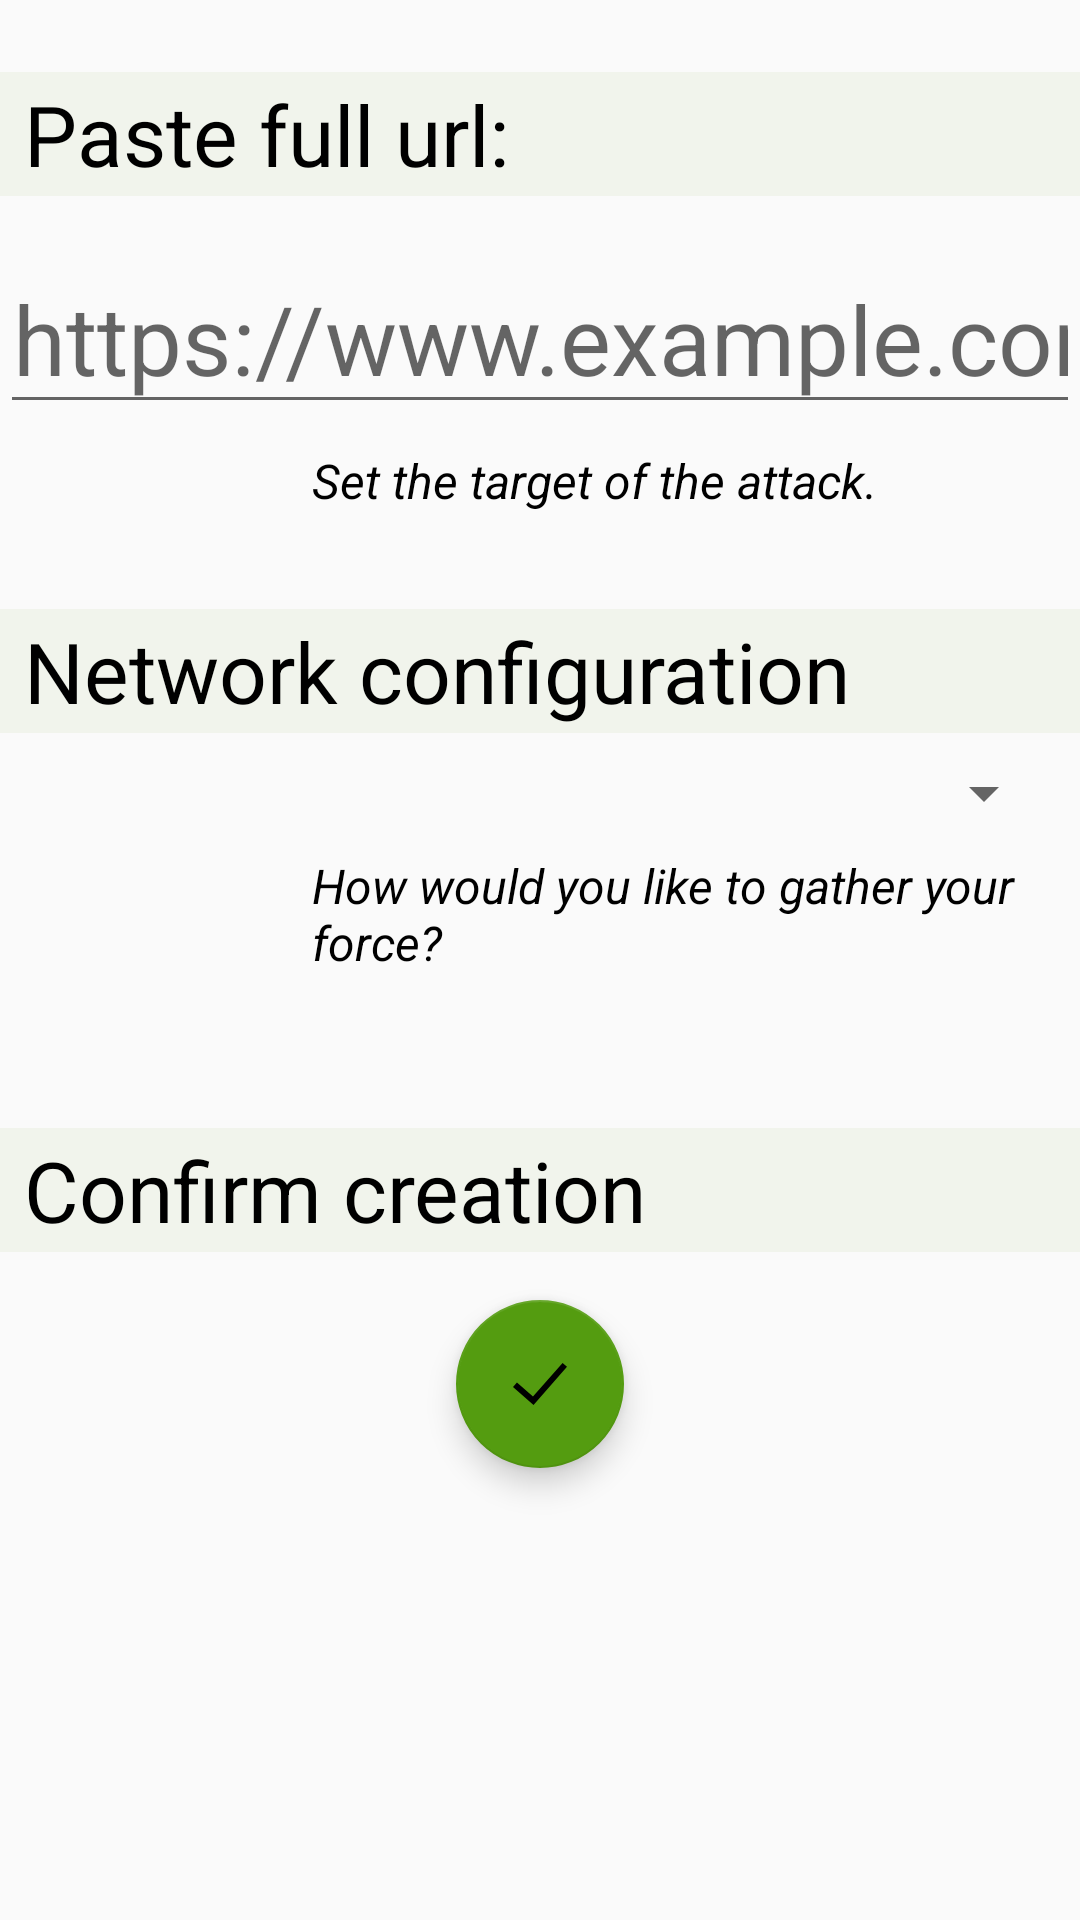

Icon bounding boxes for this 1080 × 1920 phone screenshot, format BBox(x1, y1, x2, y2):
check: BBox(456, 1300, 624, 1468)
